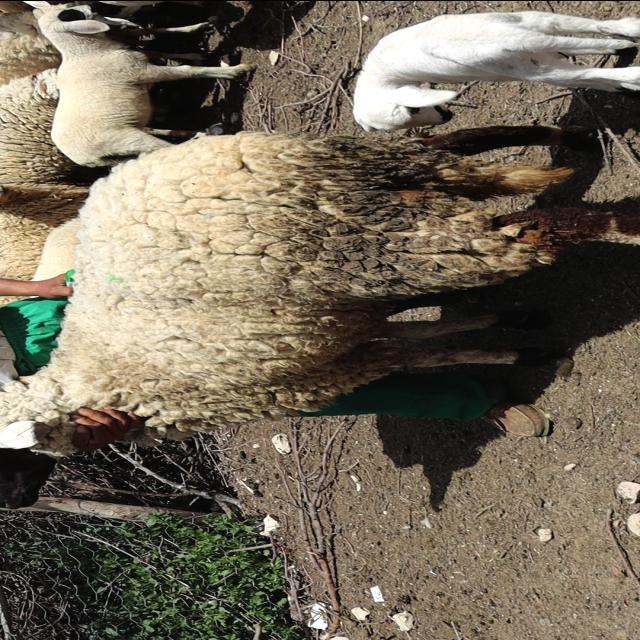Score_5: (0, 125, 639, 507)
